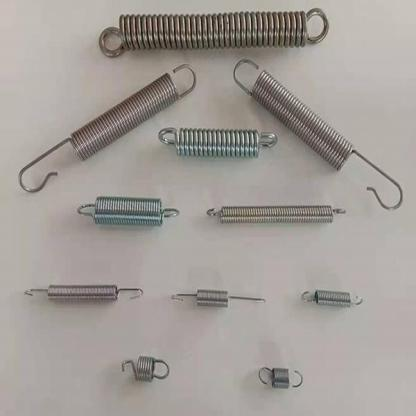FOD: (232, 57, 407, 214), (15, 61, 198, 196), (97, 4, 331, 57), (155, 125, 280, 161)
